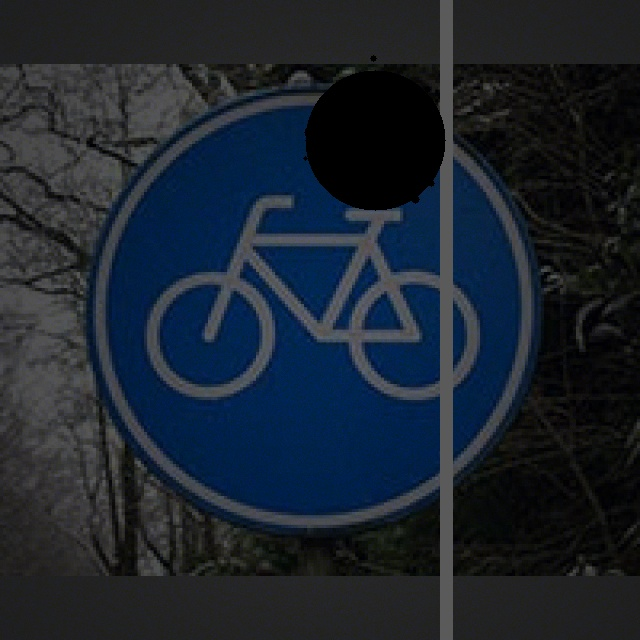Compulsory_Cycle_Track: (97, 98, 542, 506)
